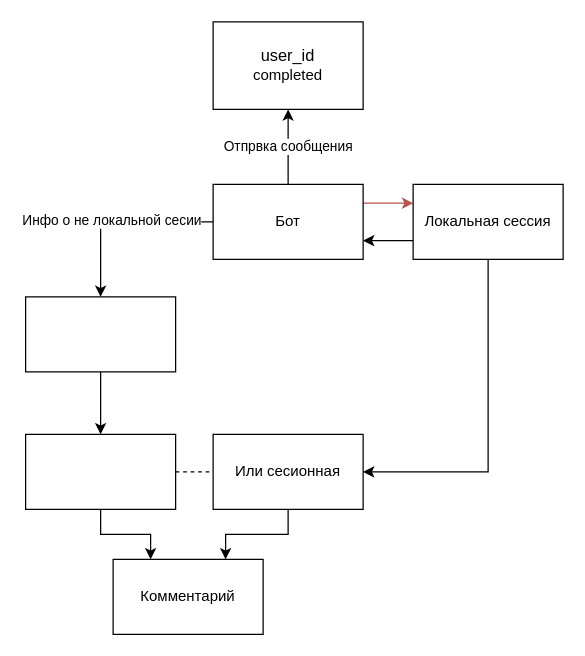
Some shapes in this 585 by 656 pixel diagram are drawn without their labels. Here are the shapes that lost their labels. From the top down, the centre of each, then its label:
point 100,334: Сервер
point 100,471: Ожидание сообщения не сесионная
